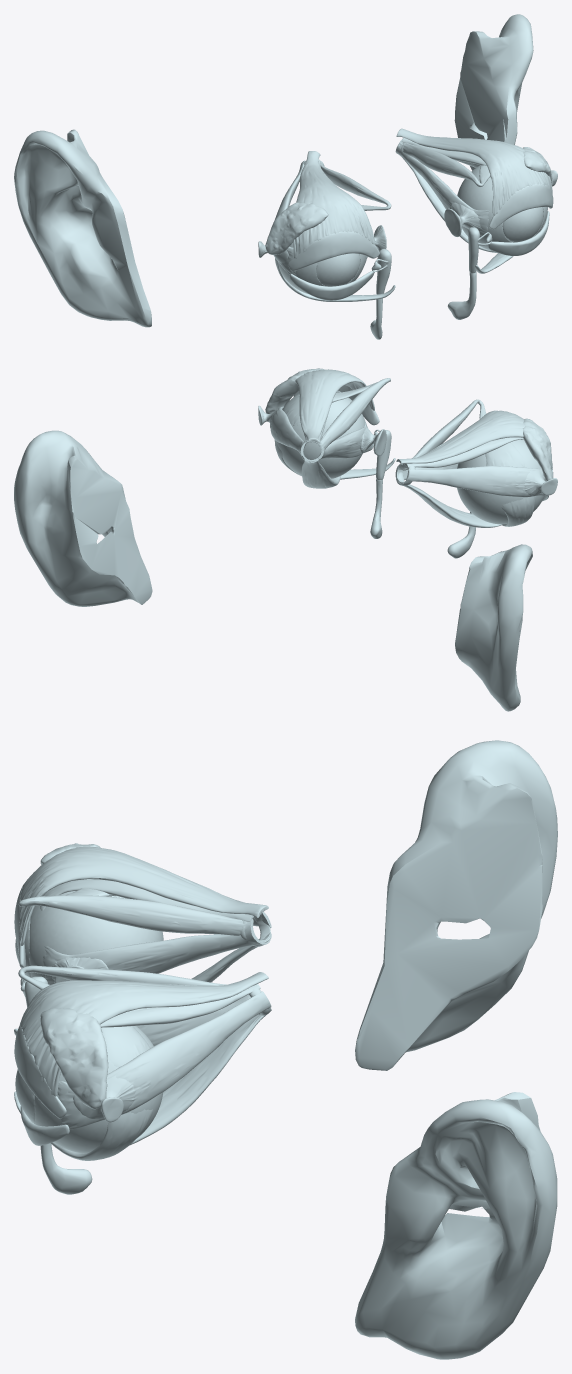
Rendered from male-sensory.glb.
3 renders of one model, top to bottom at view 1: azimuth 30°, elevation 25°; view 2: azimuth 150°, elevation 25°; view 3: azimuth 270°, elevation 25°, orthographic. The views are drawn at different scales.
Visible parts, largest first — view 1: FJ2811, FJ1306, FJ1357, FJ1350, FJ1375, FJ1317, FJ1322, FJ1324, FJ1308, FJ1340, FJ1289, FJ1379 (+12 smaller); view 2: FJ2811, FJ1355, FJ1306, FJ1357, FJ1317, FJ1368, FJ1322, FJ1373, FJ1350, FJ1346, FJ1308, FJ1374 (+9 smaller); view 3: FJ2811, FJ1306, FJ1357, FJ1304, FJ1373, FJ1299, FJ1368, FJ1359, FJ1322, FJ1295, FJ1317, FJ1323 (+8 smaller).
Part boxes in pixels (left/top/right/bottom): FJ2811: left=14, top=14, right=533, bottom=327; FJ1306: left=396, top=128, right=552, bottom=215; FJ1357: left=293, top=151, right=375, bottom=258; FJ1350: left=265, top=202, right=328, bottom=254; FJ1375: left=288, top=231, right=379, bottom=271; FJ1317: left=457, top=165, right=547, bottom=250; FJ1322: left=399, top=139, right=490, bottom=187; FJ1324: left=489, top=184, right=553, bottom=229; FJ1308: left=395, top=144, right=489, bottom=236; FJ1340: left=316, top=253, right=360, bottom=286; FJ1289: left=502, top=207, right=543, bottom=242; FJ1379: left=290, top=270, right=374, bottom=300; FJ2811: left=14, top=430, right=532, bottom=711; FJ1355: left=406, top=466, right=544, bottom=497; FJ1306: left=293, top=369, right=374, bottom=442; FJ1357: left=396, top=410, right=552, bottom=469; FJ1317: left=275, top=392, right=365, bottom=478; FJ1368: left=457, top=439, right=544, bottom=524; FJ1322: left=283, top=378, right=390, bottom=449; FJ1373: left=398, top=399, right=524, bottom=470; FJ1350: left=522, top=418, right=553, bottom=481; FJ1346: left=396, top=478, right=502, bottom=527; FJ1308: left=317, top=418, right=367, bottom=460; FJ1374: left=403, top=437, right=523, bottom=467; FJ2811: left=355, top=740, right=557, bottom=1359; FJ1306: left=20, top=972, right=268, bottom=1096; FJ1357: left=19, top=846, right=268, bottom=945; FJ1304: left=57, top=991, right=271, bottom=1129; FJ1373: left=18, top=888, right=253, bottom=935; FJ1299: left=40, top=1008, right=108, bottom=1109; FJ1368: left=29, top=891, right=163, bottom=979; FJ1359: left=43, top=925, right=261, bottom=984; FJ1322: left=18, top=965, right=226, bottom=1067; FJ1295: left=56, top=1008, right=271, bottom=1147; FJ1317: left=34, top=1026, right=163, bottom=1153; FJ1323: left=100, top=984, right=260, bottom=1027.
Bounding box in the file's own units: 0.1675 × 0.0572 × 0.0997.
